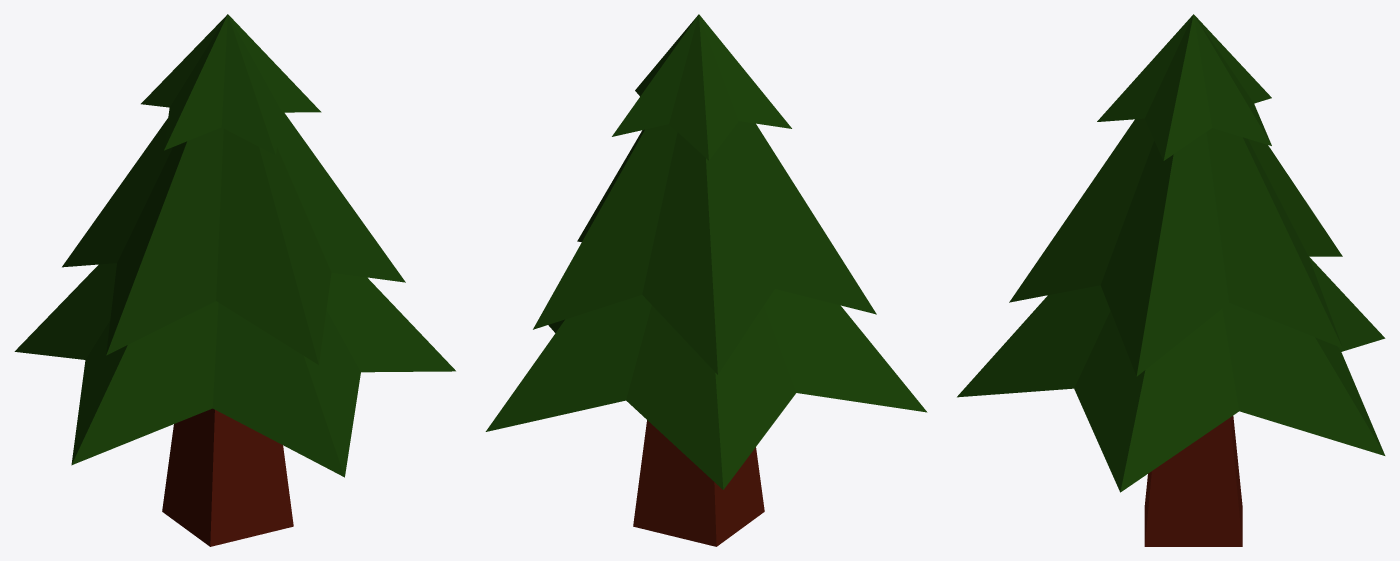
Rendered from Tree.obj.
3 renders of one model, left to right at view 1: azimuth 30°, elevation 25°; view 2: azimuth 150°, elevation 25°; view 3: azimuth 270°, elevation 25°, orthographic.
Parts seen in each view (by area): view 1: 锥体.001, 锥体.002, 立方体, 锥体; view 2: 锥体.001, 锥体.002, 锥体, 立方体; view 3: 锥体.001, 锥体.002, 锥体, 立方体.
Boxes of the visible parts, bbox=[...] form: 锥体.001: bbox=[62, 112, 405, 364]; 锥体.002: bbox=[14, 263, 455, 477]; 立方体: bbox=[162, 408, 293, 546]; 锥体: bbox=[141, 14, 321, 155]; 锥体.001: bbox=[533, 121, 876, 374]; 锥体.002: bbox=[485, 289, 927, 489]; 锥体: bbox=[612, 14, 791, 160]; 立方体: bbox=[633, 420, 764, 546]; 锥体.001: bbox=[1009, 118, 1342, 376]; 锥体.002: bbox=[957, 257, 1385, 492]; 锥体: bbox=[1097, 14, 1271, 160]; 立方体: bbox=[1144, 416, 1242, 546].
Bounding box in the file's own units: 4.65 × 5.82 × 4.42.
